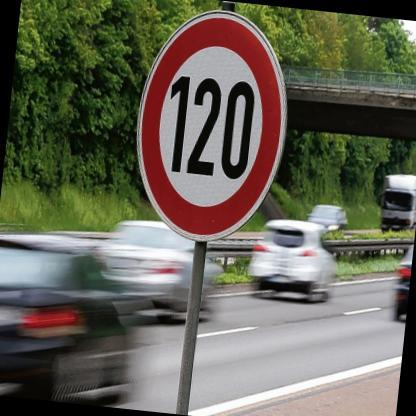road_sign: (138, 10, 286, 240)
